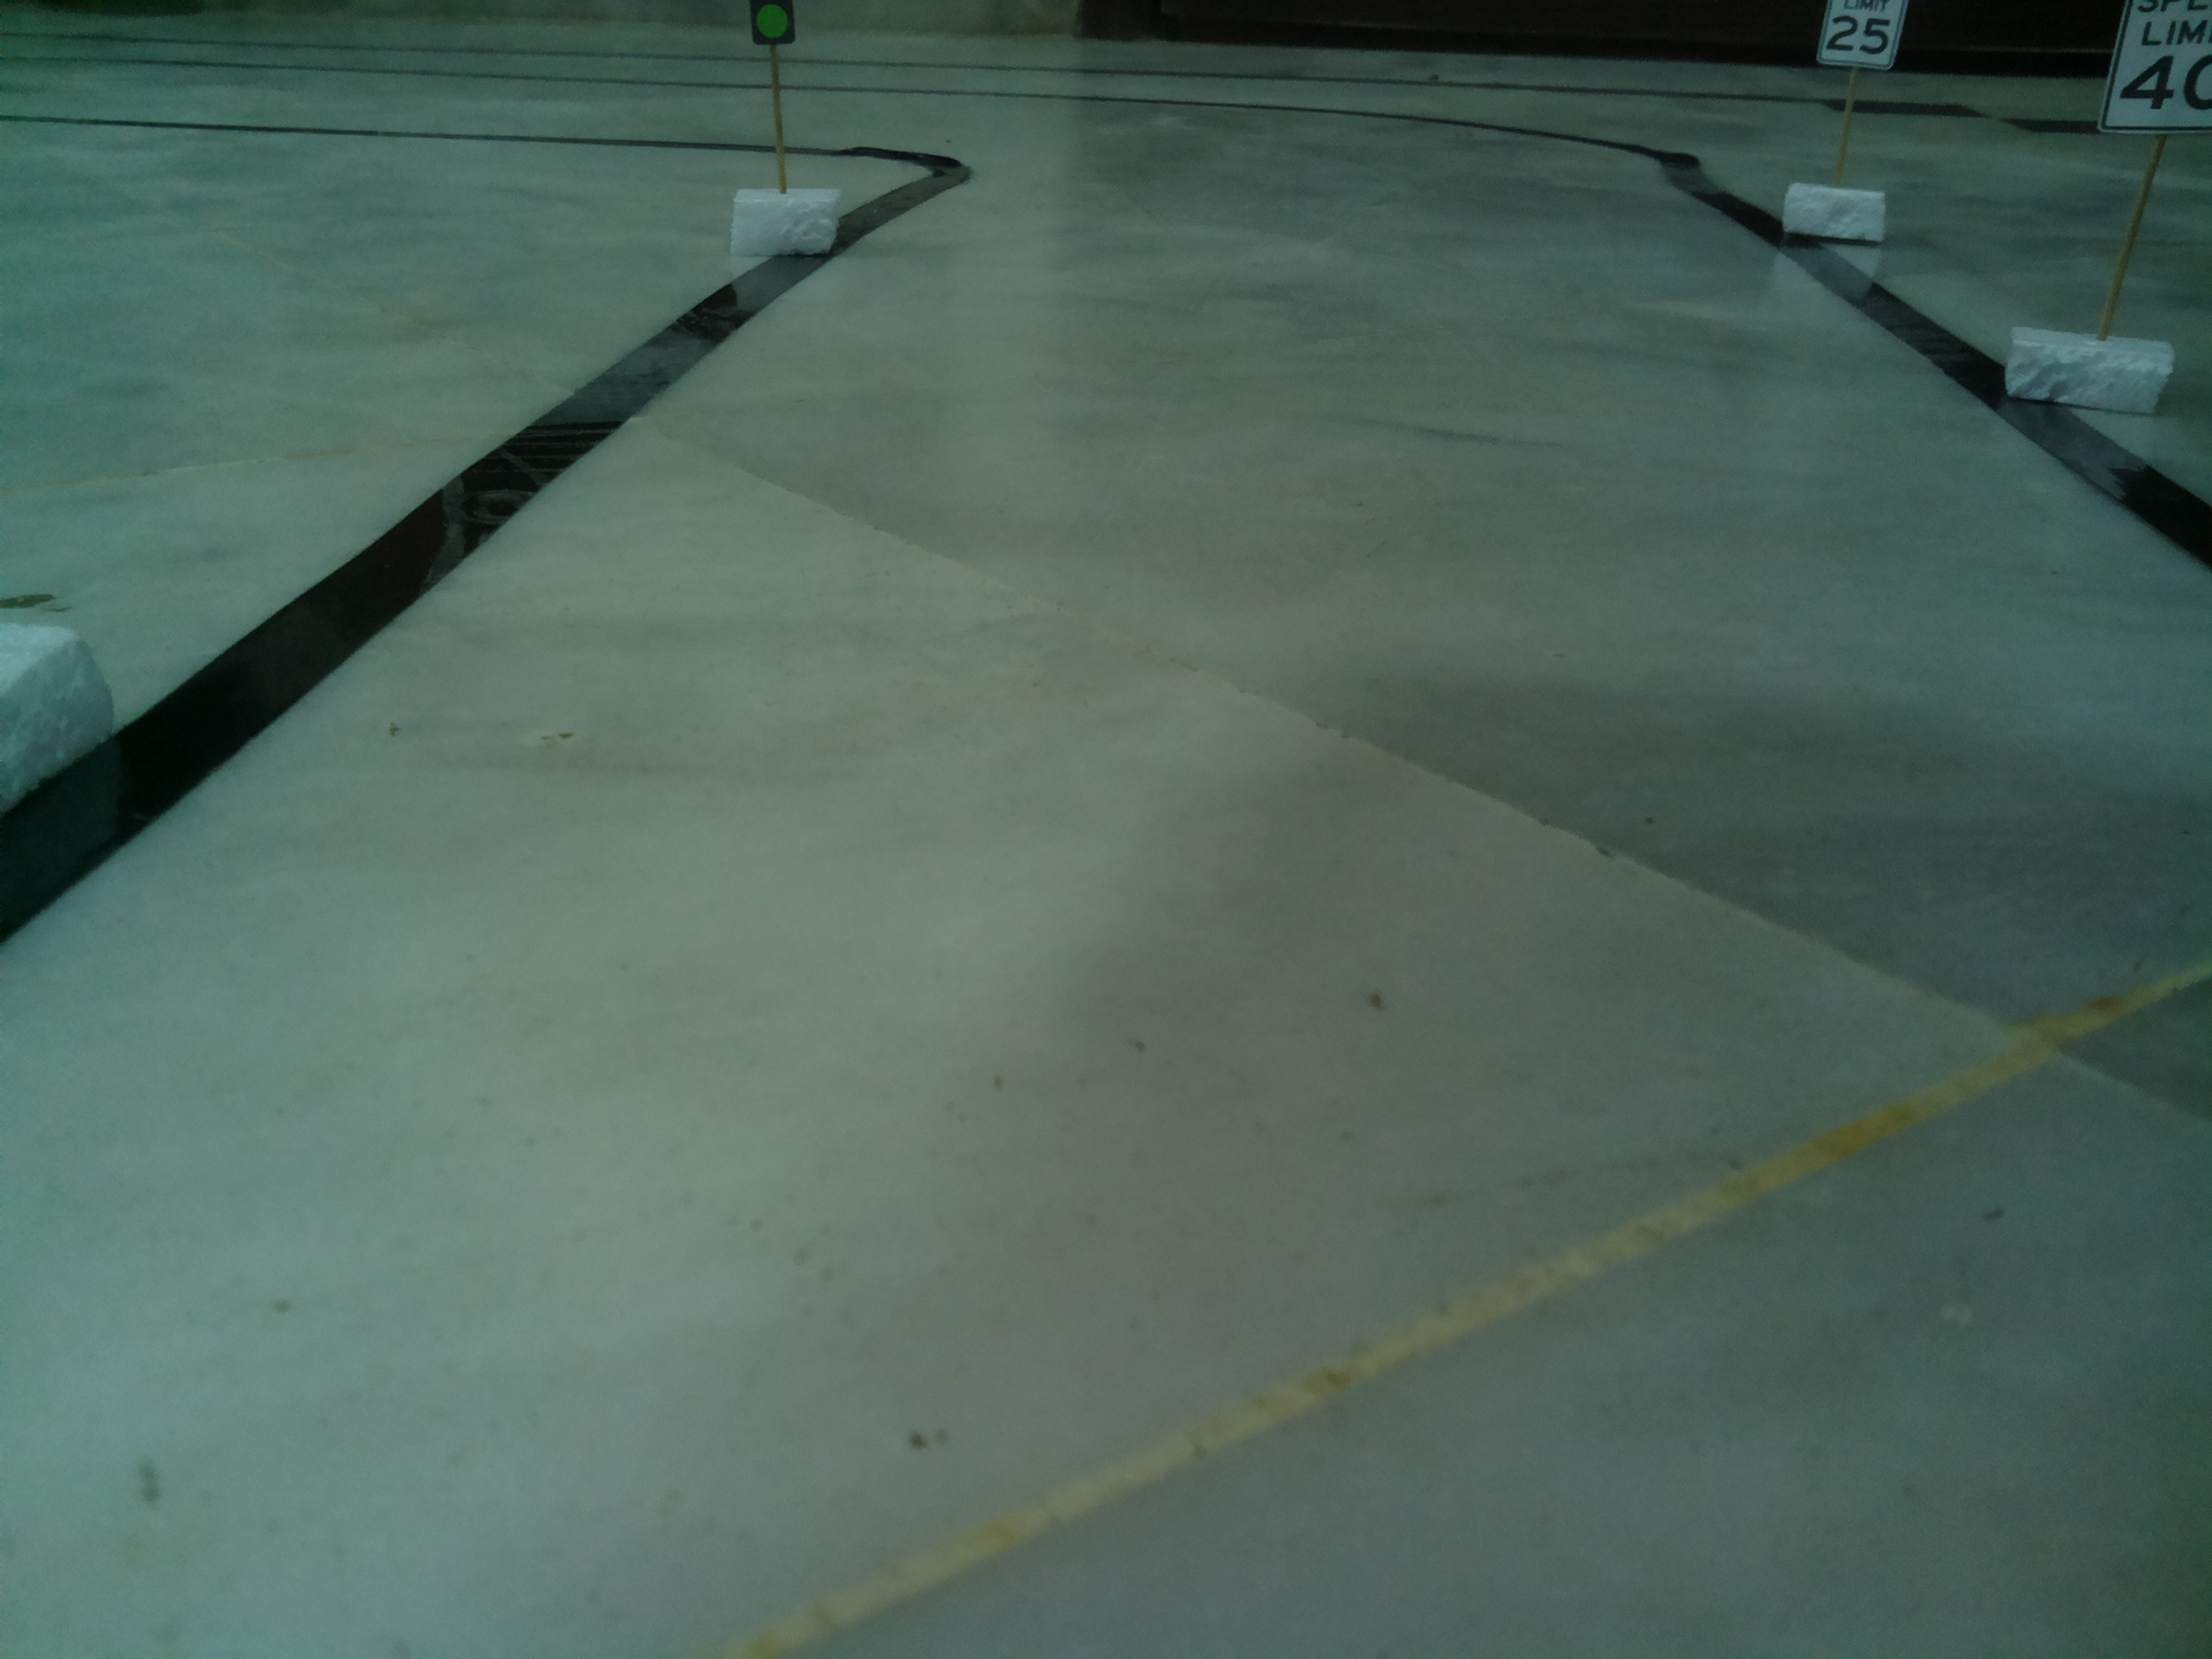Green traffic light: (738, 0, 803, 52)
Speed limit 25: (1824, 0, 1912, 77)
Speed limit 40: (2097, 0, 2212, 148)
